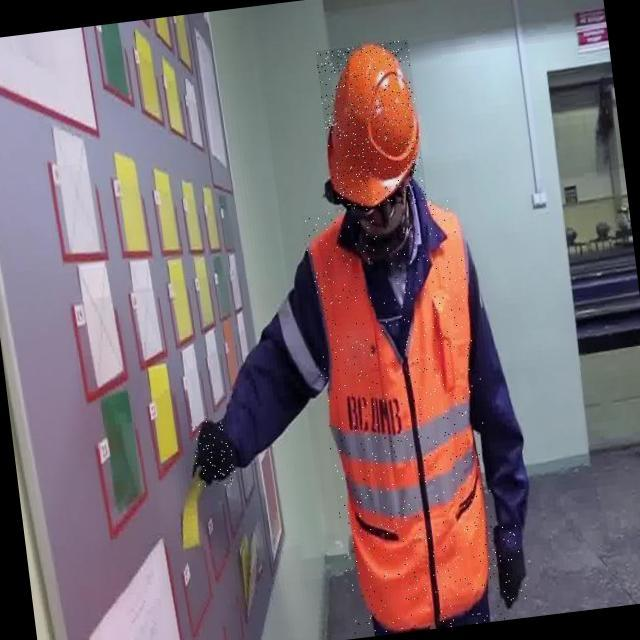Gloves: (186, 414, 255, 506), (484, 510, 541, 615)
Helmet: (315, 40, 427, 212)
Person: (174, 17, 552, 640)
Safety Vest: (301, 197, 510, 639)
